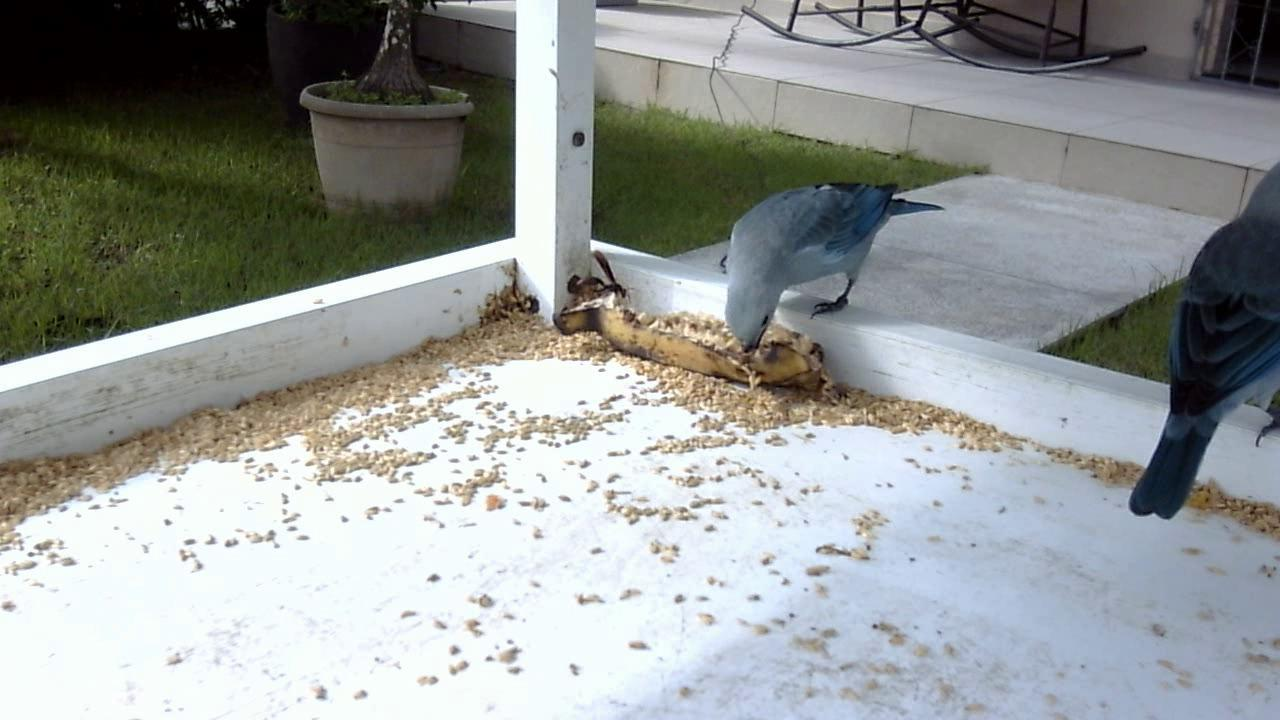sanhaco_da_amazonia: (1120, 146, 1280, 541), (707, 160, 955, 385)
